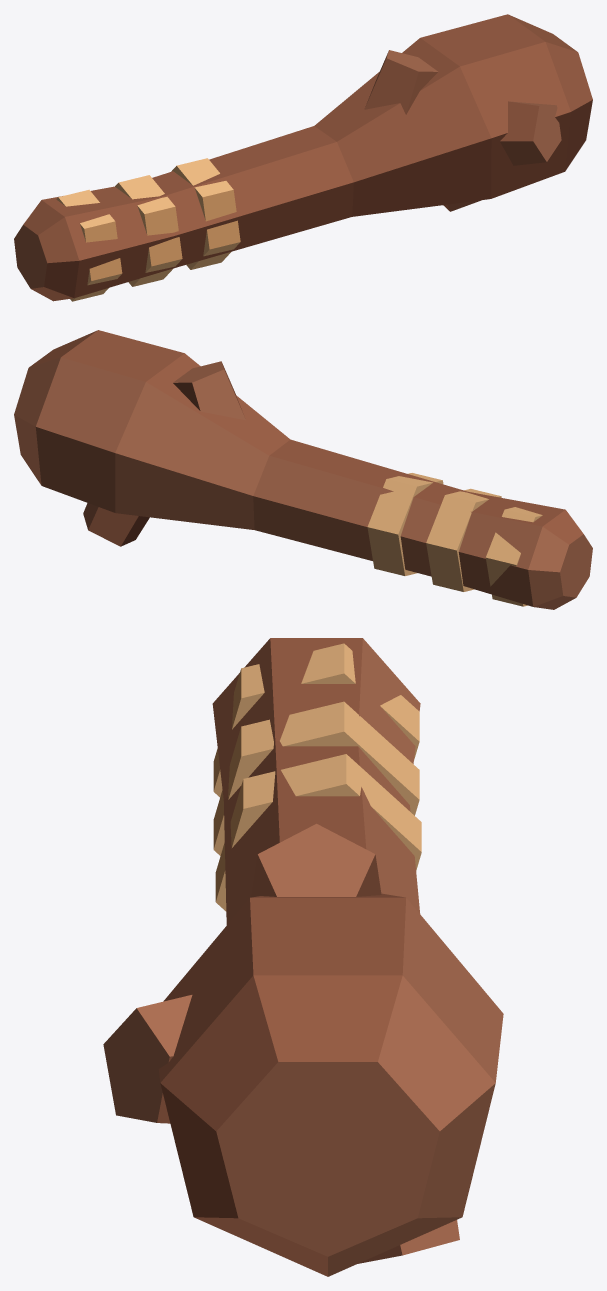
Rendered from Knotted_Club.glb.
3 renders of one model, top to bottom at view 1: azimuth 30°, elevation 25°; view 2: azimuth 150°, elevation 25°; view 3: azimuth 270°, elevation 25°, orthographic. The views are drawn at different scales.
Visible parts, largest first — view 1: Knotted wooden body, Pale binding.002, Pale binding.001, Blunt timber knot.001, Blunt timber knot, Pale binding; view 2: Knotted wooden body, Pale binding.002, Pale binding.001, Blunt timber knot, Blunt timber knot.002, Pale binding; view 3: Knotted wooden body, Pale binding.001, Pale binding.002, Blunt timber knot, Blunt timber knot.001, Pale binding, Blunt timber knot.002.
Part boxes in pixels (x1,y1,x2,y2): Knotted wooden body: (14,14,592,301); Pale binding.002: (171,158,240,269); Pale binding.001: (115,175,182,286); Blunt timber knot.001: (500,101,561,165); Blunt timber knot: (364,50,437,114); Pale binding: (56,189,122,301); Knotted wooden body: (14,330,592,609); Pale binding.002: (367,473,443,575); Pale binding.001: (426,488,501,591); Blunt timber knot: (173,361,245,420); Blunt timber knot.002: (83,503,149,546); Pale binding: (485,507,542,606); Knotted wooden body: (158,638,503,1276); Pale binding.001: (213,701,419,855); Pale binding.002: (215,754,421,911); Blunt timber knot: (251,823,381,897); Blunt timber knot.001: (103,995,192,1123); Pale binding: (213,643,419,797); Blunt timber knot.002: (358,1220,459,1263).
Size of the model in its own units: 1.07 by 0.3462 by 0.349.
Materials: 1 (1 with a texture image).
